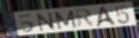5: (114, 4, 132, 25), (18, 13, 35, 33)
A: (94, 6, 118, 28)
M: (53, 10, 79, 31)
N: (35, 11, 58, 32)
R: (73, 8, 96, 29)
